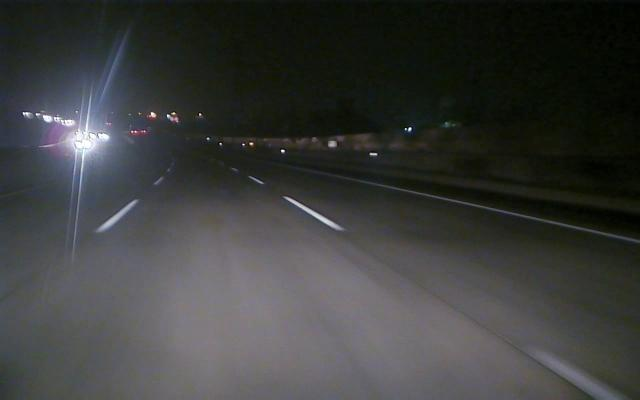lane: (351, 178, 638, 244), (251, 177, 347, 231), (97, 178, 163, 231)
